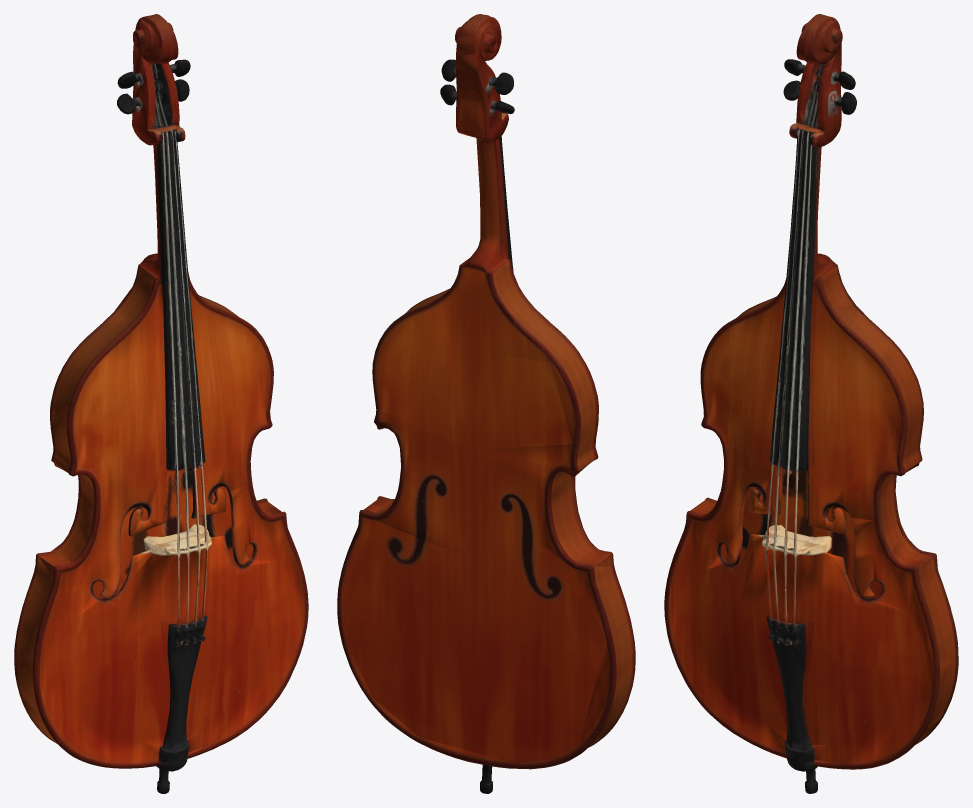
Rendered from DoubleBass_Game.fbx.
The picture shows the model from 3 angles, left to right: view 1: azimuth 30°, elevation 25°; view 2: azimuth 150°, elevation 25°; view 3: azimuth 330°, elevation 25°; orthographic projection.
Parts seen in each view (by area): view 1: output_unwrapped; view 2: output_unwrapped; view 3: output_unwrapped.
Part boxes in pixels (x1,y1,x2,y2): output_unwrapped: (14, 14, 308, 793); output_unwrapped: (337, 14, 635, 793); output_unwrapped: (664, 14, 958, 793).
Bounding box in the file's own units: 71.13 × 190 × 23.01.
Materials: 1 (1 with a texture image).
